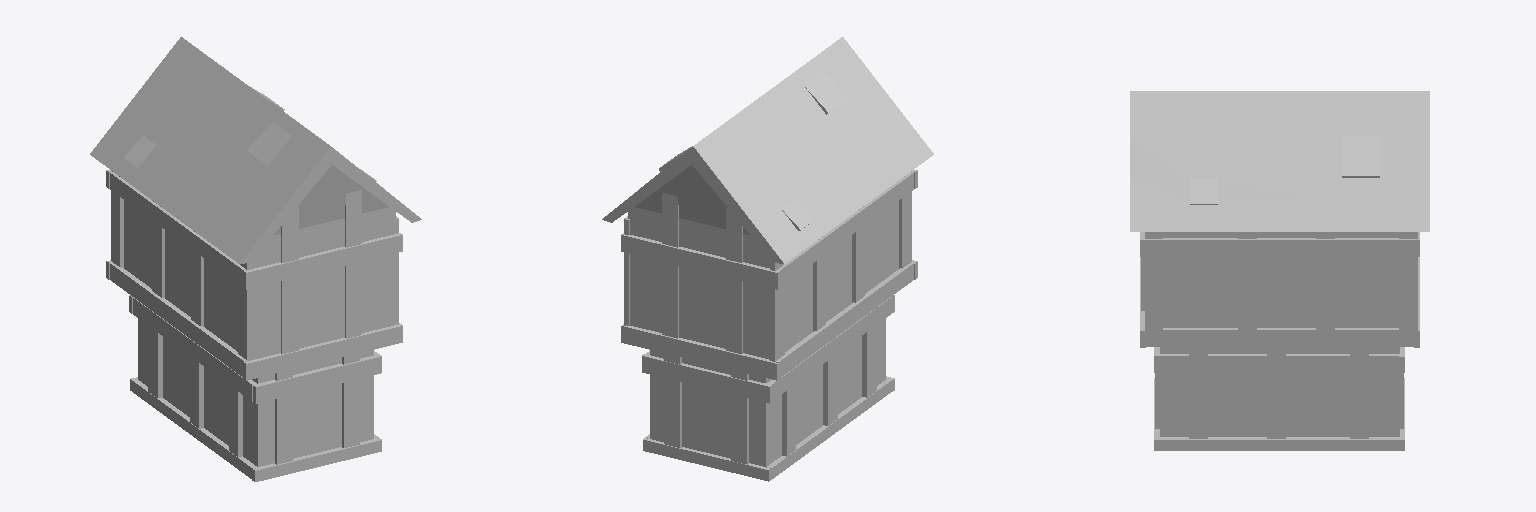
File: maison2.obj
3 renders of one model, left to right at view 1: azimuth 30°, elevation 25°; view 2: azimuth 150°, elevation 25°; view 3: azimuth 270°, elevation 25°, orthographic.
Visible parts, largest first — view 1: M1:pCube43; view 2: M1:pCube43; view 3: M1:pCube43.
Part boxes in pixels (left/top/right/bottom): M1:pCube43: left=90, top=37, right=421, bottom=481; M1:pCube43: left=602, top=37, right=933, bottom=481; M1:pCube43: left=1130, top=91, right=1429, bottom=450.
Bounding box in the file's own units: 9.96 × 17.12 × 14.11.